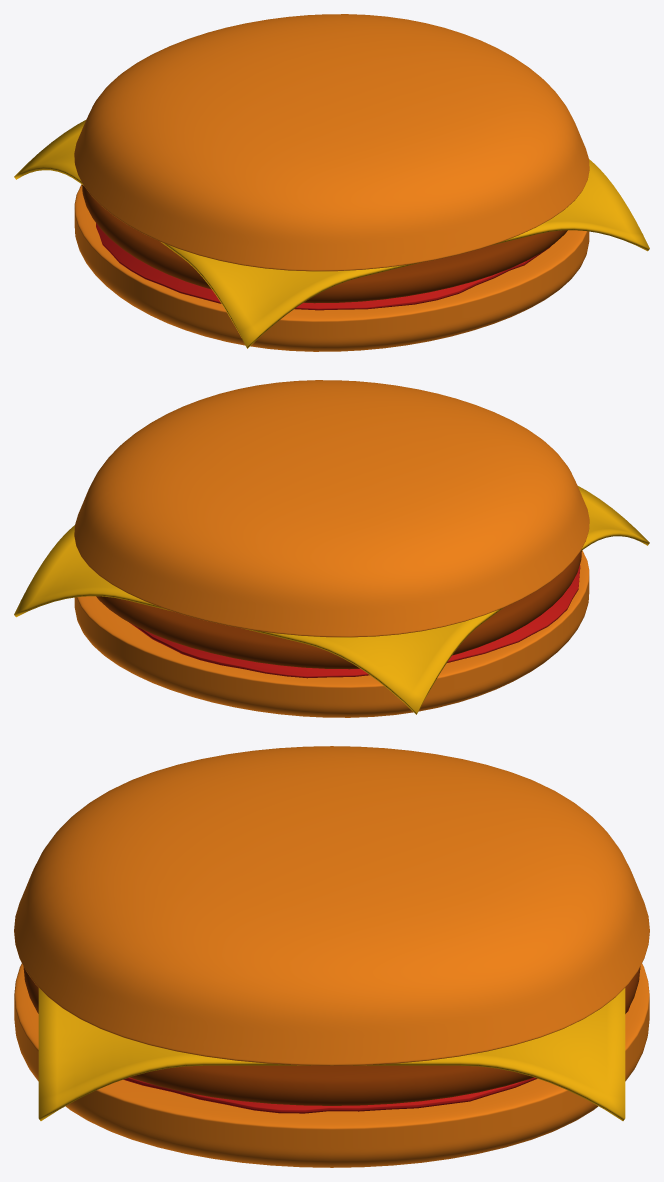
File: hamburger.glb
The picture shows the model from 3 angles, top to bottom: view 1: azimuth 30°, elevation 25°; view 2: azimuth 150°, elevation 25°; view 3: azimuth 270°, elevation 25°; orthographic projection. The views are drawn at different scales.
Visible parts, largest first — view 1: Cube.002, Cube, Plane, Cube.001, Cylinder; view 2: Cube.002, Cube, Plane, Cube.001, Cylinder; view 3: Cube.002, Cube, Plane, Cube.001, Cylinder.
Boxes of the visible parts, left/top/right/bottom form: Cube.002: left=74, top=14, right=589, bottom=271; Cube: left=74, top=184, right=589, bottom=351; Plane: left=14, top=120, right=649, bottom=348; Cube.001: left=82, top=185, right=567, bottom=303; Cylinder: left=96, top=223, right=550, bottom=310; Cube.002: left=74, top=380, right=589, bottom=637; Cube: left=74, top=550, right=589, bottom=717; Plane: left=14, top=486, right=649, bottom=714; Cube.001: left=96, top=551, right=581, bottom=669; Cylinder: left=129, top=565, right=580, bottom=678; Cube.002: left=14, top=746, right=649, bottom=1065; Cube: left=14, top=963, right=649, bottom=1167; Plane: left=38, top=988, right=625, bottom=1120; Cube.001: left=23, top=966, right=640, bottom=1105; Cylinder: left=123, top=1006, right=629, bottom=1113.
Bounding box in the file's own units: 9.15 × 3.82 × 9.15.
